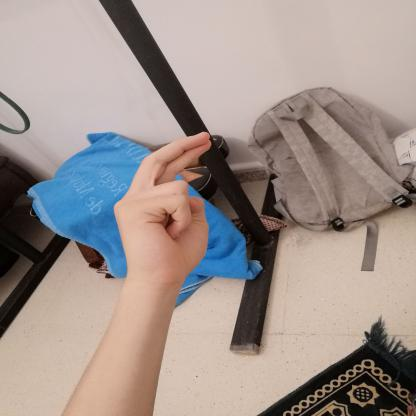ZAY: (104, 125, 221, 294)
